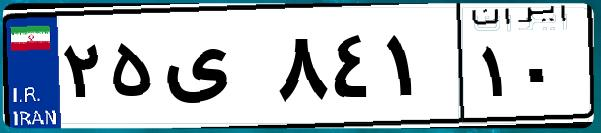0: (525, 38, 570, 115)
1: (385, 28, 445, 110), (475, 38, 525, 113)
2: (57, 26, 110, 100)
4: (330, 28, 385, 110)
5: (110, 28, 158, 98)
8: (270, 28, 330, 110)
ی: (158, 20, 270, 120)
